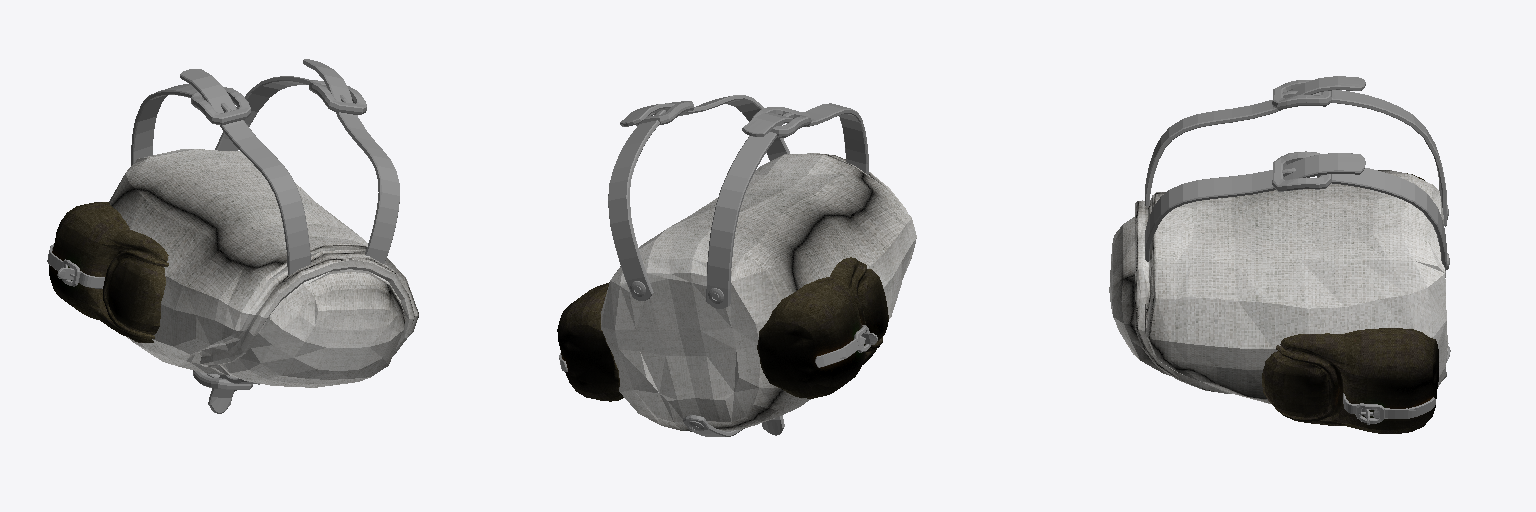
3 renders of one model, left to right at view 1: azimuth 30°, elevation 25°; view 2: azimuth 150°, elevation 25°; view 3: azimuth 270°, elevation 25°, orthographic.
Parts seen in each view (by area): view 1: Plane001, Loft001, Plane003, Plane005; view 2: Plane001, Plane003, Loft001, Plane005; view 3: Plane001, Plane003, Loft001, Plane005.
Part boxes in pixels (x1,y1,x2,y2): Plane001: (109, 149, 418, 387); Loft001: (47, 59, 399, 413); Plane003: (49, 202, 168, 342); Plane005: (61, 80, 366, 390); Plane001: (601, 153, 916, 431); Plane003: (557, 257, 888, 401); Loft001: (559, 95, 877, 436); Plane005: (630, 101, 870, 431); Plane001: (1109, 170, 1448, 403); Plane003: (1262, 173, 1438, 433); Loft001: (1145, 76, 1450, 424); Plane005: (1272, 80, 1449, 423).
Bounding box in the file's own units: 70.96 × 71.77 × 67.99.
Materials: 4 (2 with a texture image).